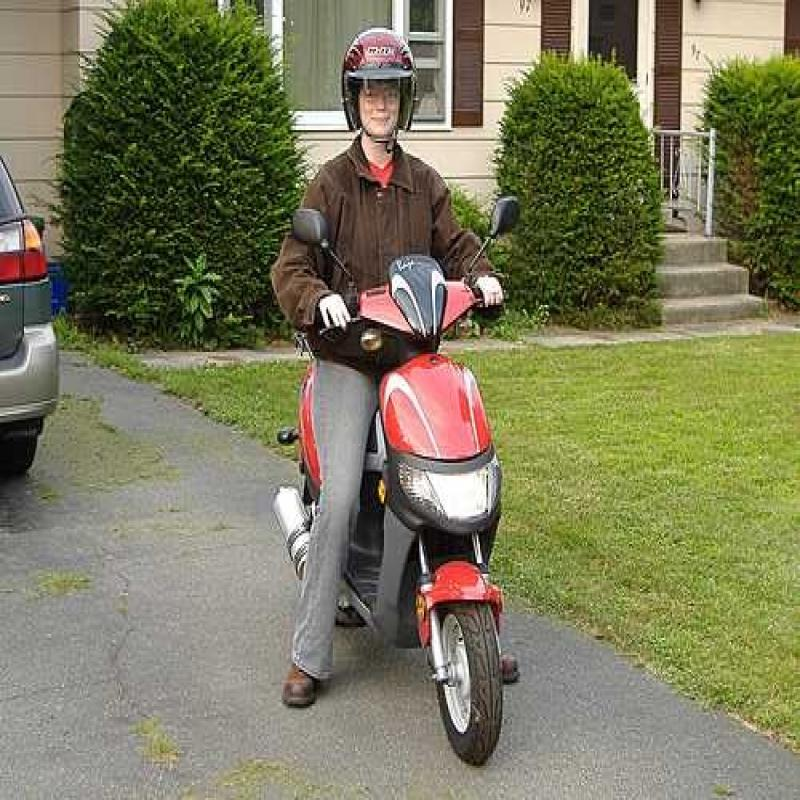bike: (318, 201, 566, 770)
